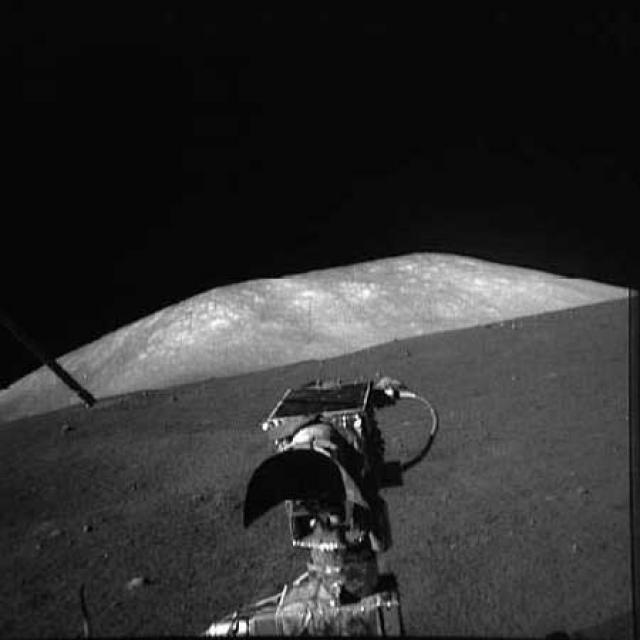artifact: (198, 365, 465, 638), (3, 312, 108, 405)
